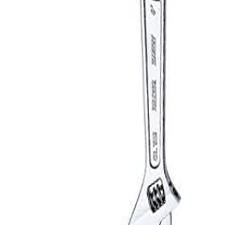Wrench: (116, 1, 197, 225)
